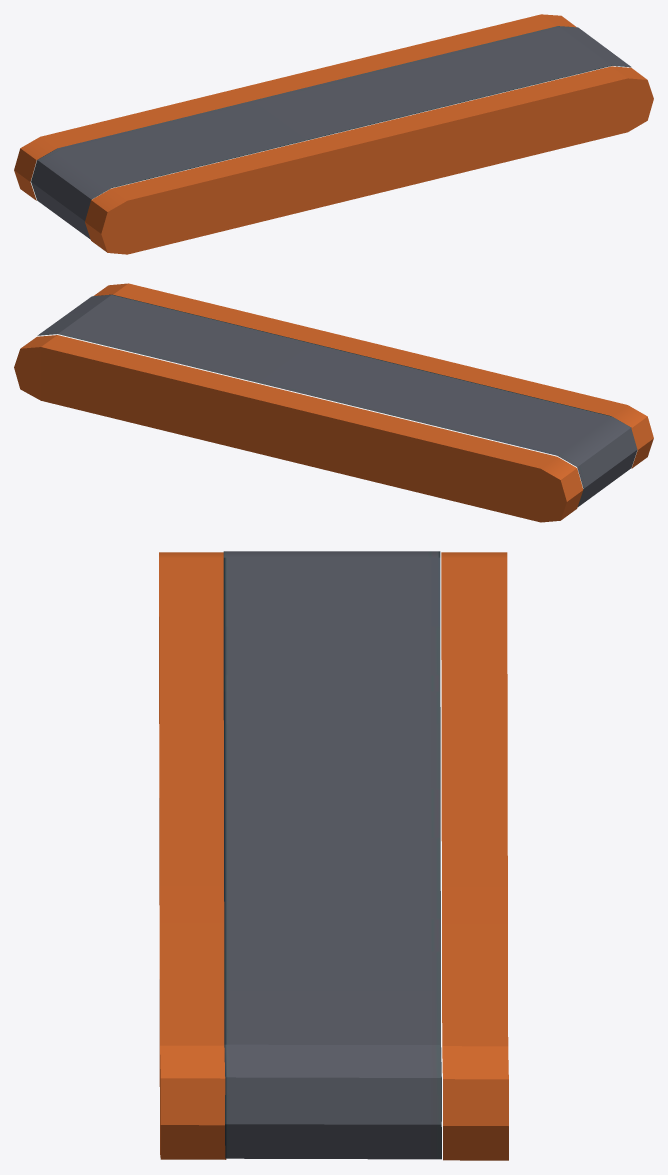
3 renders of one model, top to bottom at view 1: azimuth 30°, elevation 25°; view 2: azimuth 150°, elevation 25°; view 3: azimuth 270°, elevation 25°, orthographic. The views are drawn at different scales.
Parts seen in each view (by area): view 1: SM_chuansongdai; view 2: SM_chuansongdai; view 3: SM_chuansongdai.
Boxes of the visible parts, x1=… form: SM_chuansongdai: x1=14, y1=14, x2=653, y2=254; SM_chuansongdai: x1=14, y1=283, x2=653, y2=522; SM_chuansongdai: x1=159, y1=551, x2=508, y2=1160.
Bounding box in the file's own units: 3.95 × 0.3718 × 1.08.
Materials: 2 (1 with a texture image).
